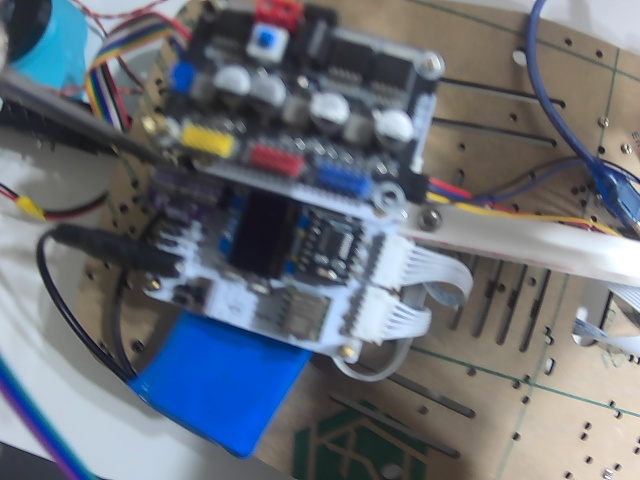steelball: (414, 207, 442, 231)
